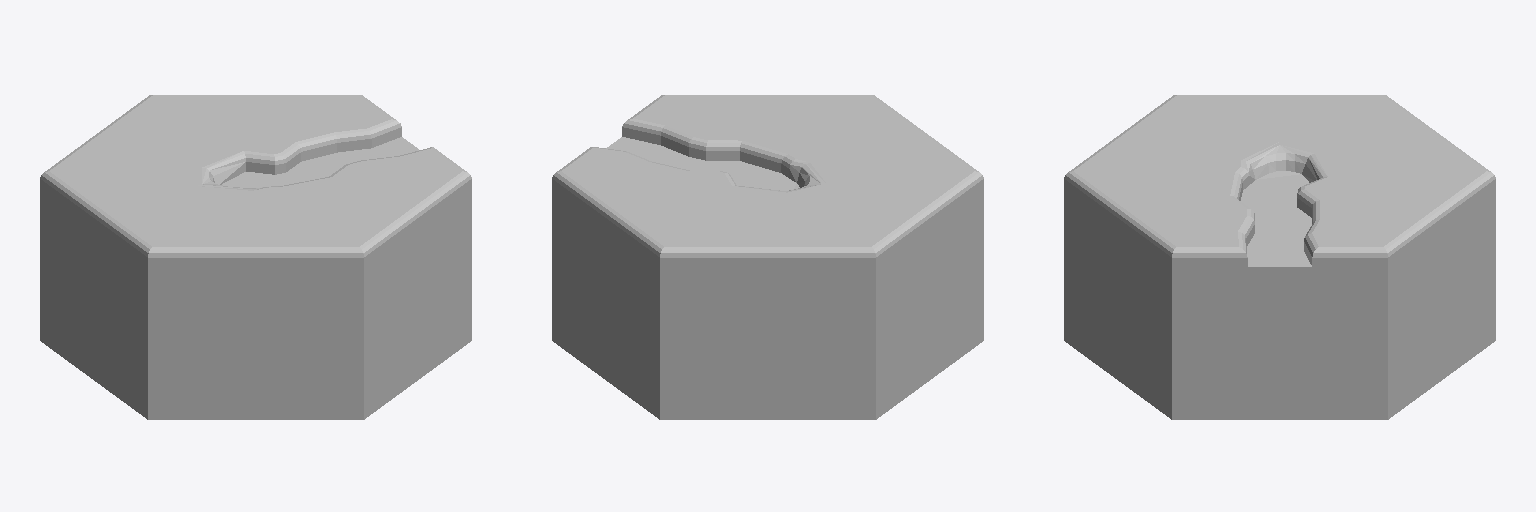
Rendered from hex_rock_roadA.obj.
3 views of the same model, side by side, from view 1: azimuth 30°, elevation 25°; view 2: azimuth 150°, elevation 25°; view 3: azimuth 270°, elevation 25° (orthographic).
Parts seen in each view (by area): view 1: hex_rock_roadA_Cylinder.590; view 2: hex_rock_roadA_Cylinder.590; view 3: hex_rock_roadA_Cylinder.590.
Part boxes in pixels (left/top/right/bottom): hex_rock_roadA_Cylinder.590: left=40, top=95, right=471, bottom=419; hex_rock_roadA_Cylinder.590: left=552, top=95, right=983, bottom=419; hex_rock_roadA_Cylinder.590: left=1064, top=95, right=1495, bottom=419.
Bounding box in the file's own units: 2 × 1 × 2.31.